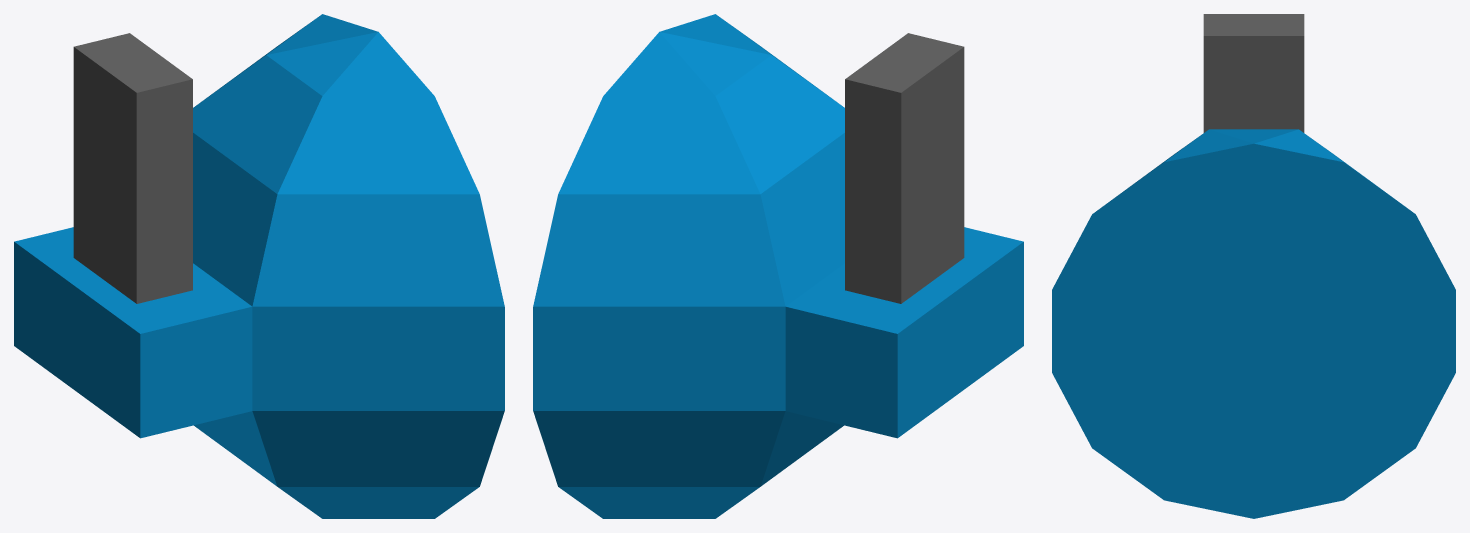
File: Splitter second side.fbx
The picture shows the model from 3 angles, left to right: view 1: azimuth 30°, elevation 25°; view 2: azimuth 150°, elevation 25°; view 3: azimuth 270°, elevation 25°; orthographic projection. The views are drawn at different scales.
Parts seen in each view (by area): view 1: Sphere; view 2: Sphere; view 3: Sphere.
Boxes of the visible parts, bbox=[...] form: Sphere: bbox=[14, 14, 504, 518]; Sphere: bbox=[533, 14, 1023, 518]; Sphere: bbox=[1052, 14, 1455, 518].
Size of the model in its own units: 134 by 212 by 195.
